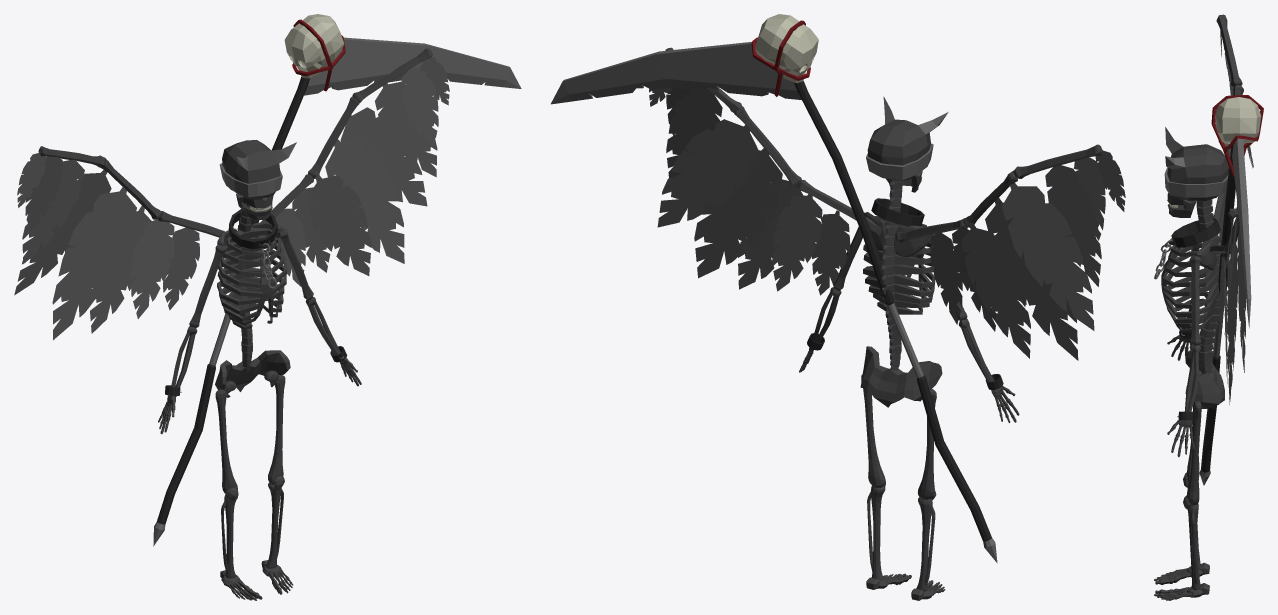
Rendered from LowPolySkeletonDeath.fbx.
The picture shows the model from 3 angles, left to right: view 1: azimuth 30°, elevation 25°; view 2: azimuth 150°, elevation 25°; view 3: azimuth 270°, elevation 25°; orthographic projection. The views are drawn at different scales.
Parts seen in each view (by area): view 1: Plane.013, Cylinder.001, Spine/Ripcage.001, Skull.002, FemurL.001, Tibia/FibulaL.001, Pelvis.001, HumerusL.001, Radius/UlnaL.001, FootL.001, Torus.002, Cylinder.002 (+4 smaller); view 2: Plane.013, Cylinder.001, Spine/Ripcage.001, Skull.002, Pelvis.001, Tibia/FibulaL.001, FemurL.001, Radius/UlnaL.001, ScapulaL.001, Cylinder.002, HumerusR.007, Torus.002 (+2 smaller); view 3: Cylinder.001, Spine/Ripcage.001, Plane.013, Skull.002, Torus.002, FootL.001, Pelvis.001, FemurL.001, Cylinder.002, HumerusL.001, HandL.001, Tibia/FibulaL.001 (+6 smaller).
Part boxes in pixels (x1,y1,x2,y2): Plane.013: (14,57,449,340); Cylinder.001: (153,14,521,546); Spine/Ripcage.001: (217,204,287,372); Skull.002: (222,140,296,208); FemurL.001: (215,370,285,493); Tibia/FibulaL.001: (221,482,283,578); Pelvis.001: (215,350,290,397); HumerusL.001: (189,228,313,327); Radius/UlnaL.001: (171,297,341,396); FootL.001: (220,560,293,600); Torus.002: (228,209,277,288); Cylinder.002: (219,163,282,197); Plane.013: (649,87,1125,360); Cylinder.001: (551,14,997,563); Spine/Ripcage.001: (863,179,935,370); Skull.002: (867,96,948,180); Pelvis.001: (860,346,942,407); Tibia/FibulaL.001: (867,485,935,591); FemurL.001: (861,374,936,499); Radius/UlnaL.001: (812,287,994,381); ScapulaL.001: (864,212,931,257); Cylinder.002: (866,143,933,179); HumerusR.007: (734,106,801,187); Torus.002: (871,198,924,226); Cylinder.001: (1199,95,1263,485); Spine/Ripcage.001: (1161,199,1227,374); Plane.013: (1219,31,1253,404); Skull.002: (1165,127,1228,205); Torus.002: (1154,218,1220,279); FootL.001: (1154,562,1209,600); Pelvis.001: (1185,350,1224,408); FemurL.001: (1187,371,1201,505); Cylinder.002: (1164,167,1228,197); HumerusL.001: (1189,248,1201,345); HandL.001: (1167,335,1194,457); Tibia/FibulaL.001: (1187,483,1200,589).
Size of the model in its own units: 313 by 306 by 56.92.
